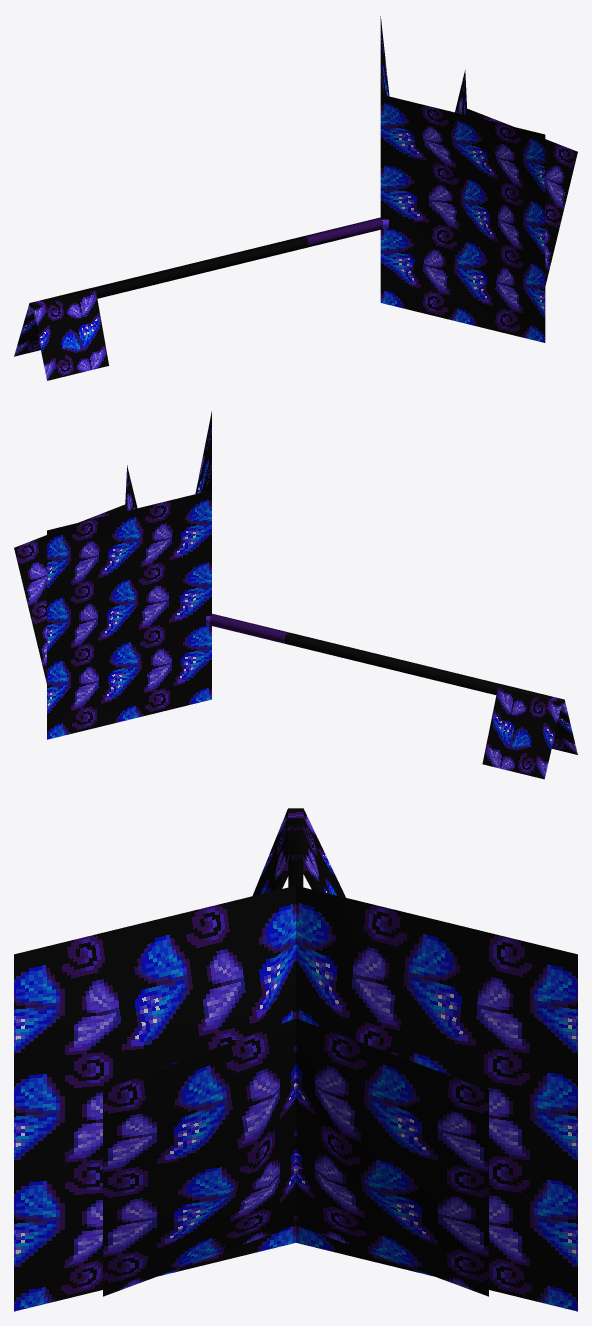
File: 1321sbim03_04_c.gltf
The picture shows the model from 3 angles, top to bottom: view 1: azimuth 30°, elevation 25°; view 2: azimuth 150°, elevation 25°; view 3: azimuth 270°, elevation 25°; orthographic projection. The views are drawn at different scales.
Visible parts, largest first — view 1: 1321sbim03_04_c; view 2: 1321sbim03_04_c; view 3: 1321sbim03_04_c.
Part boxes in pixels (bbox=[...]): 1321sbim03_04_c: bbox=[14, 16, 577, 380]; 1321sbim03_04_c: bbox=[14, 411, 577, 779]; 1321sbim03_04_c: bbox=[14, 808, 577, 1311].
Size of the model in its own units: 1.99 by 0.8091 by 1.16.
1 material, 1 textured.
